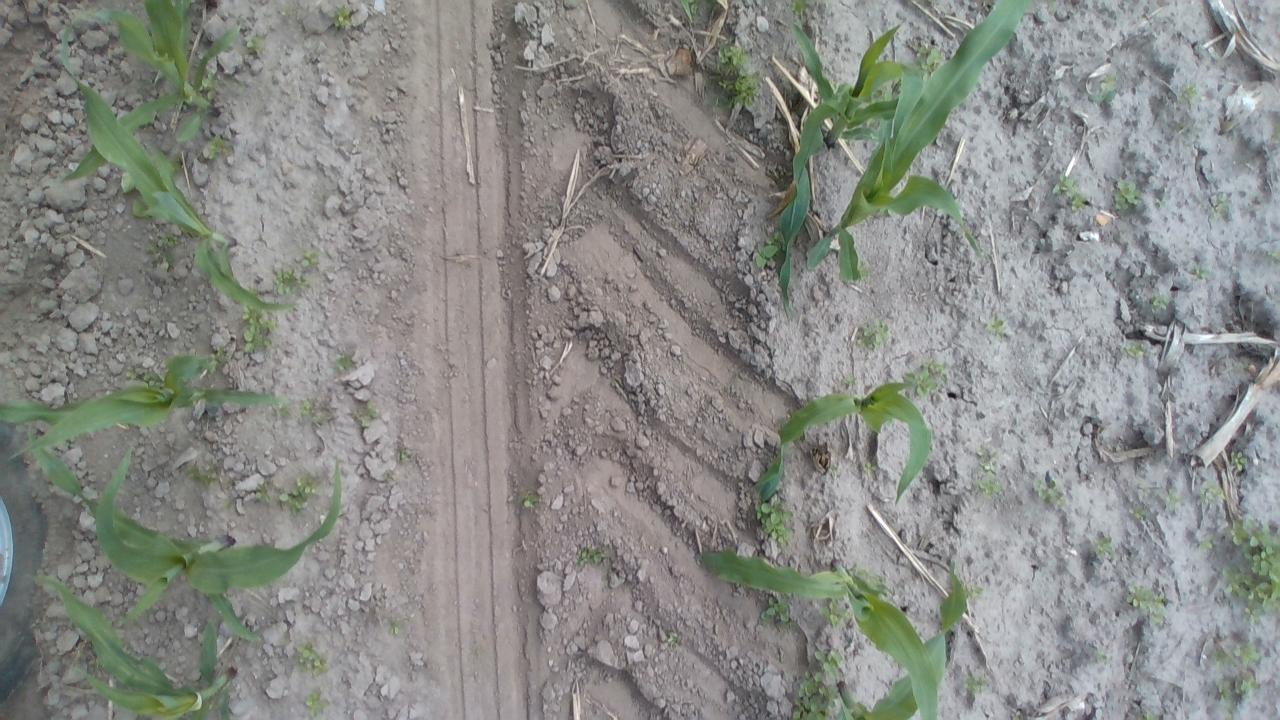Maize: (47, 22, 300, 322), (24, 439, 352, 641), (804, 0, 1034, 285), (766, 17, 940, 329), (696, 550, 962, 717), (58, 3, 247, 196), (0, 352, 290, 459), (34, 573, 244, 720), (751, 375, 938, 513), (833, 560, 972, 720), (679, 0, 696, 26)
Weeds: (1219, 514, 1278, 620), (708, 40, 762, 114), (790, 668, 840, 719), (755, 498, 797, 548), (1124, 581, 1170, 623), (277, 472, 316, 517), (903, 361, 948, 399), (240, 308, 276, 354), (144, 230, 179, 271), (1216, 671, 1261, 702), (758, 596, 798, 630), (753, 229, 786, 270), (1052, 172, 1087, 210), (1210, 640, 1261, 664), (295, 640, 330, 673), (273, 264, 310, 295), (1032, 473, 1065, 507), (1111, 177, 1142, 212), (855, 319, 890, 350), (814, 645, 846, 678), (1091, 71, 1121, 105), (912, 40, 942, 72), (960, 670, 990, 699), (822, 599, 849, 631), (1198, 478, 1226, 506), (304, 688, 330, 718), (182, 463, 220, 483), (200, 71, 224, 102), (204, 346, 230, 374), (299, 396, 322, 427), (331, 4, 356, 32), (354, 401, 378, 430), (1207, 193, 1233, 219), (204, 135, 232, 159), (976, 446, 1000, 474), (577, 545, 608, 566), (1177, 80, 1202, 106), (1092, 534, 1118, 559), (132, 75, 160, 98), (121, 365, 156, 383), (986, 316, 1011, 340), (976, 477, 1004, 498), (1162, 488, 1186, 512), (332, 350, 358, 371), (301, 246, 324, 269), (244, 34, 268, 56), (1228, 448, 1248, 473), (253, 480, 271, 504), (789, 1, 811, 20), (520, 490, 540, 510), (1130, 504, 1151, 523), (662, 630, 683, 649), (1122, 344, 1146, 360), (272, 400, 292, 419), (1197, 532, 1215, 553), (217, 495, 238, 512), (1150, 291, 1168, 310), (233, 78, 250, 98), (1191, 263, 1210, 280), (967, 583, 984, 601), (1136, 707, 1160, 719), (1264, 249, 1280, 267), (224, 472, 240, 490), (386, 617, 401, 636), (1154, 195, 1170, 212), (1271, 115, 1280, 144), (861, 461, 876, 477), (381, 470, 399, 483), (396, 448, 411, 463), (842, 374, 857, 388), (280, 6, 296, 19), (1096, 648, 1109, 664), (1008, 707, 1024, 720), (692, 0, 702, 17)
